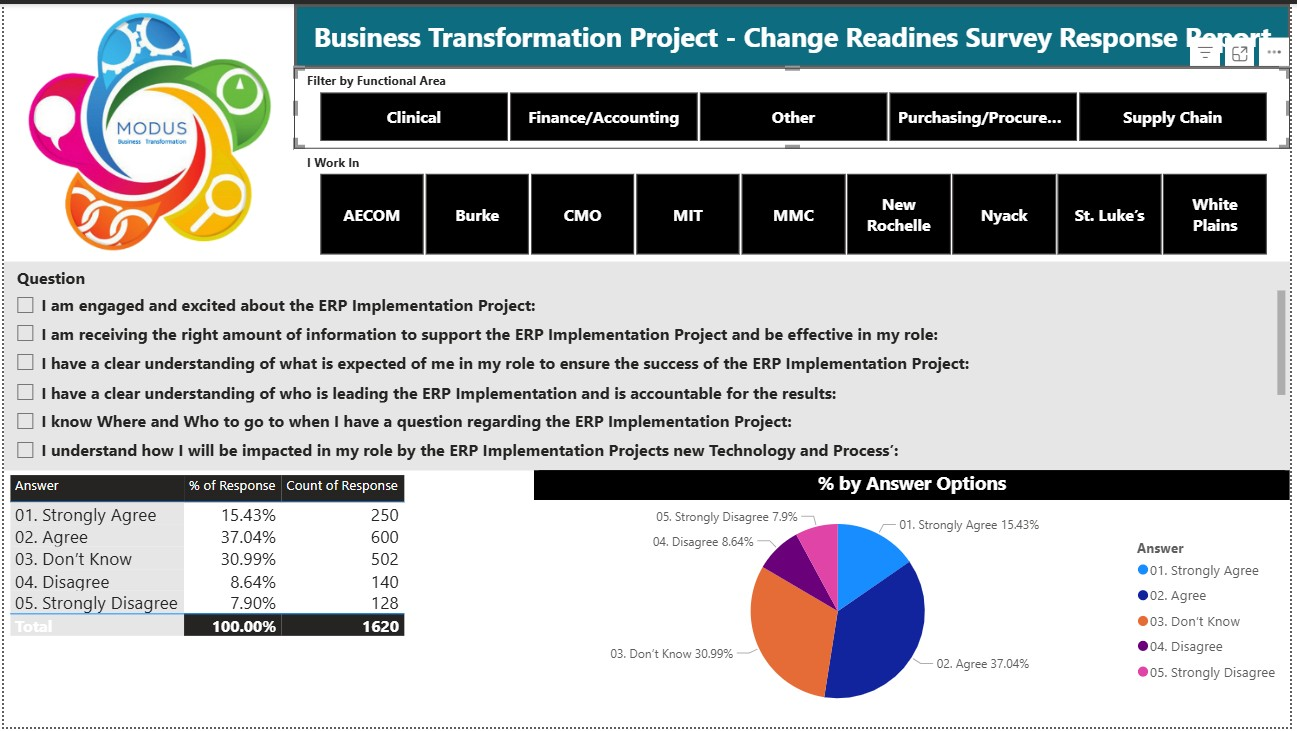

What the dashboard file says about the page in this screenshot:
{"tool":"powerbi","page":{"name":"Page 1","canvas":[1280,720],"ordinal":0},"visuals":[{"type":"actionButton","box":[288,0,992,64],"z":0},{"type":"image","box":[0,0,288,256],"z":1},{"type":"slicer","fields":{"Values":["query (14).The Functional area that I work in is best described as:"]},"box":[288,64,992,80],"z":2},{"type":"slicer","fields":{"Values":["query (14).The Entity that I work for is:"]},"box":[288,144,992,112],"z":3},{"type":"slicer","fields":{"Values":["query (14).Attribute"]},"box":[0,256,1280,208],"z":4},{"type":"tableEx","fields":{"Values":["query (14).Answer","query (14).% of Response","query (14).Count of Response"]},"box":[0,464,528,256],"z":5},{"type":"pieChart","title":"% by Answer Options","fields":{"Category":["query (14).Value"],"Y":["query (14).Count of Response"]},"box":[528,464,752,256],"z":6}]}

Visuals, with their boxes in screenshot pixels (x1, y1, x2, y2), scaled from the page's 1280x720 canvas onto the 1297x731 screenshot:
actionButton: bbox(292, 0, 1296, 65)
image: bbox(0, 0, 292, 260)
slicer - query (14).The Functional area that I work in is best described as:: bbox(292, 65, 1296, 146)
slicer - query (14).The Entity that I work for is:: bbox(292, 146, 1296, 260)
slicer - query (14).Attribute: bbox(0, 260, 1296, 471)
tableEx - query (14).Answer x query (14).% of Response: bbox(0, 471, 535, 730)
"% by Answer Options" pieChart: bbox(535, 471, 1296, 730)
